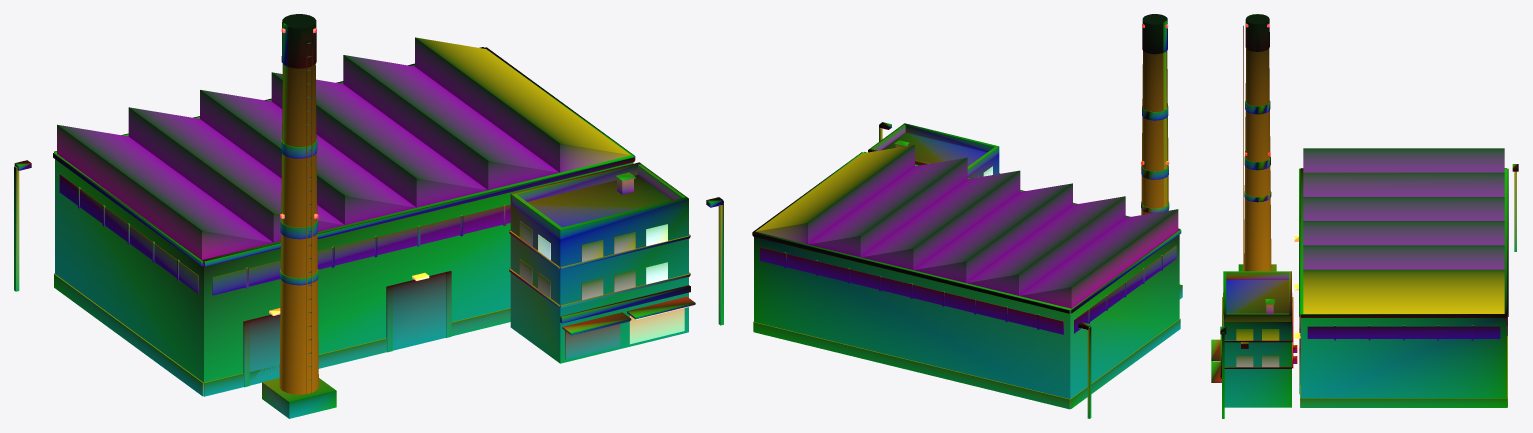
Rendered from Ind_Hall_V10.fbx.
The picture shows the model from 3 angles, left to right: view 1: azimuth 30°, elevation 25°; view 2: azimuth 150°, elevation 25°; view 3: azimuth 270°, elevation 25°; orthographic projection. The views are drawn at different scales.
Parts seen in each view (by area): view 1: Ind_Hall_V10_LOD0; view 2: Ind_Hall_V10_LOD0; view 3: Ind_Hall_V10_LOD0.
Part boxes in pixels (box(x1,y1,x2,y2)): Ind_Hall_V10_LOD0: box(14, 14, 723, 418); Ind_Hall_V10_LOD0: box(752, 14, 1182, 418); Ind_Hall_V10_LOD0: box(1211, 14, 1518, 418).
Size of what is drawn, in the model's own units: 46.3 by 34 by 35.75.
